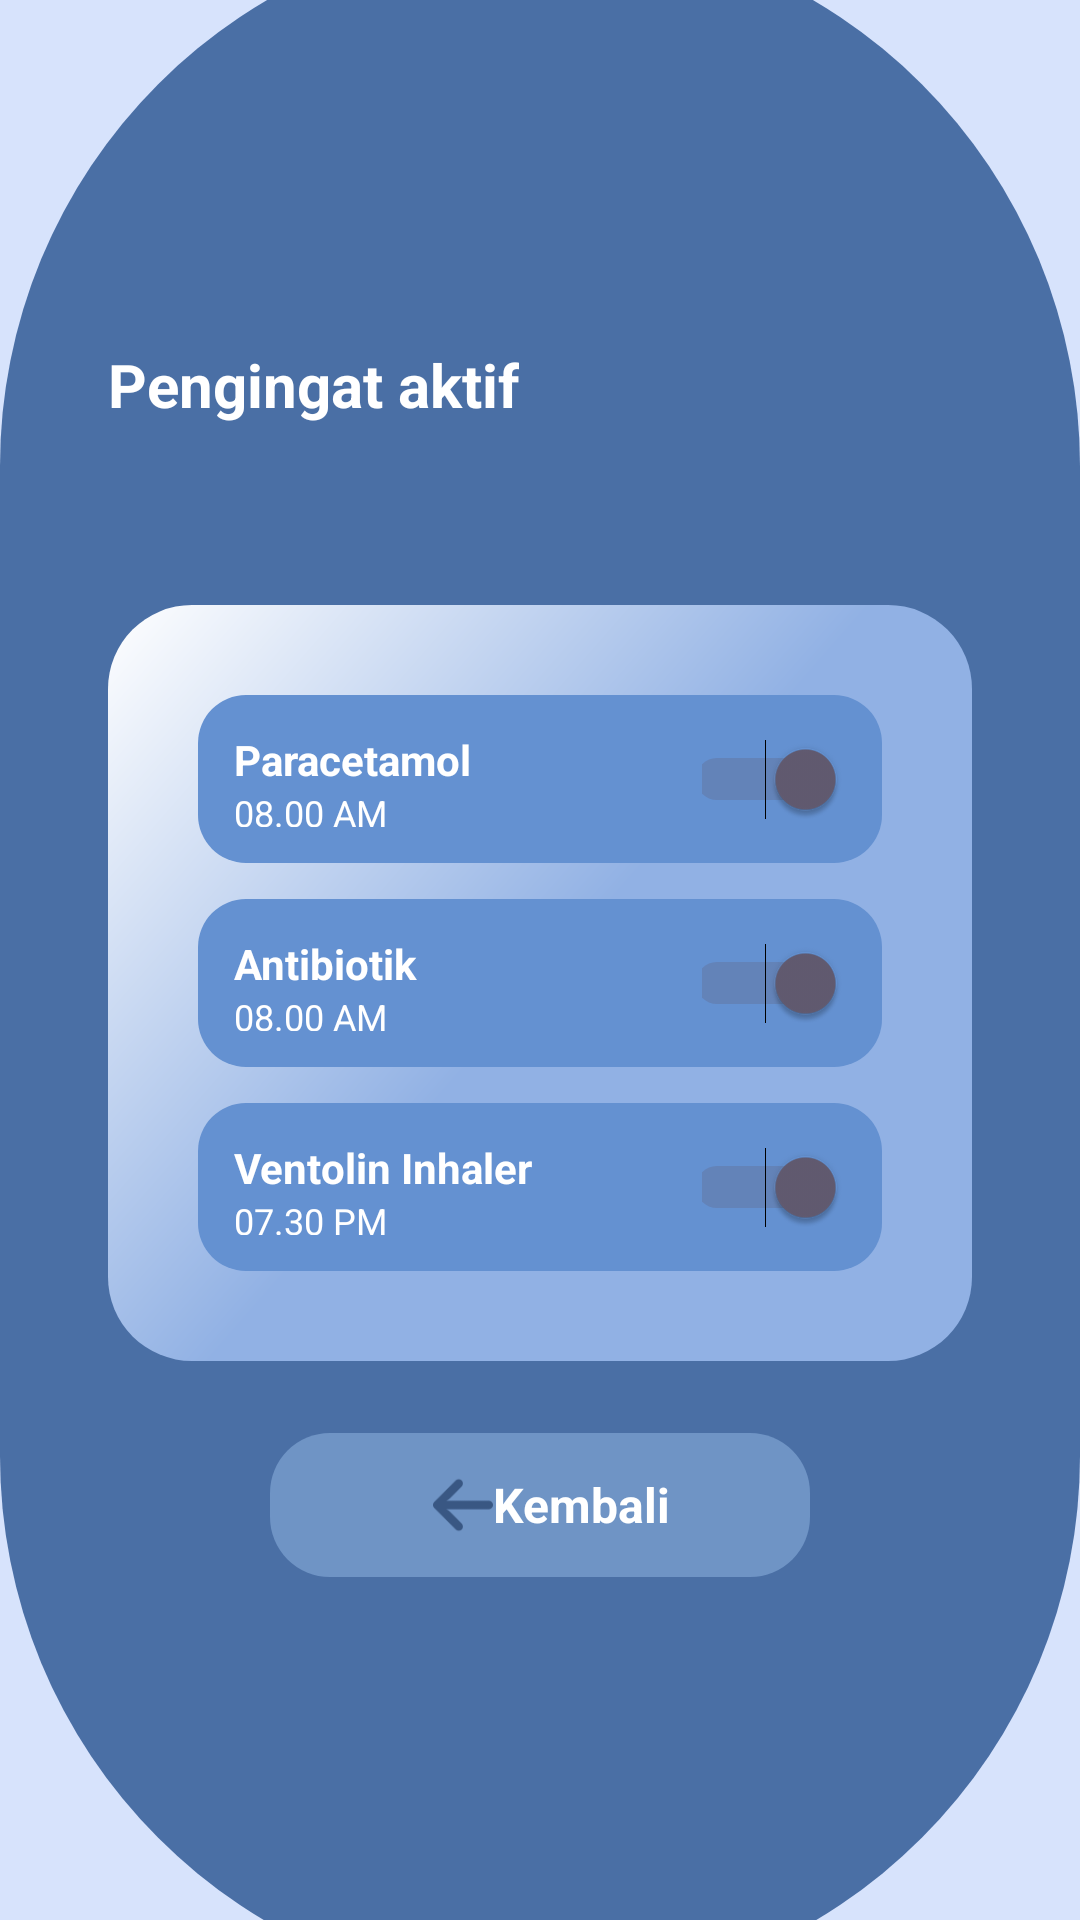

Point at icon controls on the screen. Image size 1080 x 1920, points as (x=x, y=y).
left arrow: (x=463, y=1505)
